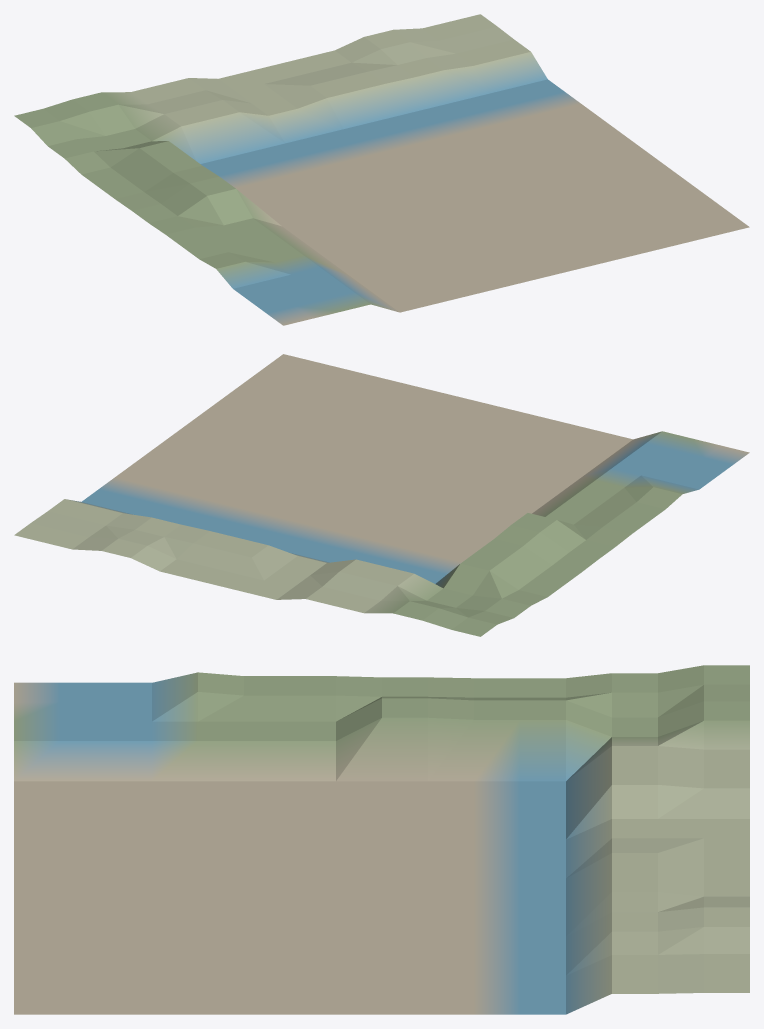
The picture shows the model from 3 angles, top to bottom: view 1: azimuth 30°, elevation 25°; view 2: azimuth 150°, elevation 25°; view 3: azimuth 270°, elevation 25°; orthographic projection. The views are drawn at different scales.
Size of the model in its own units: 32 by 2.12 by 32.
